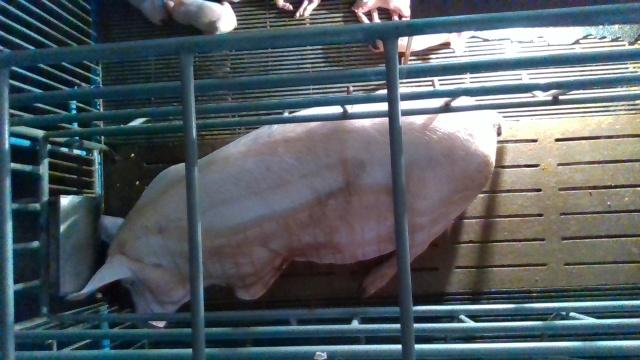piglet: (370, 29, 474, 65), (165, 0, 238, 35), (352, 0, 410, 21)
sow-sleep: (63, 87, 503, 329)
